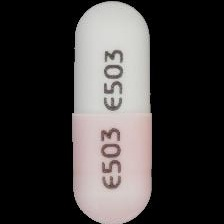42291-850: (0, 0, 224, 224)
